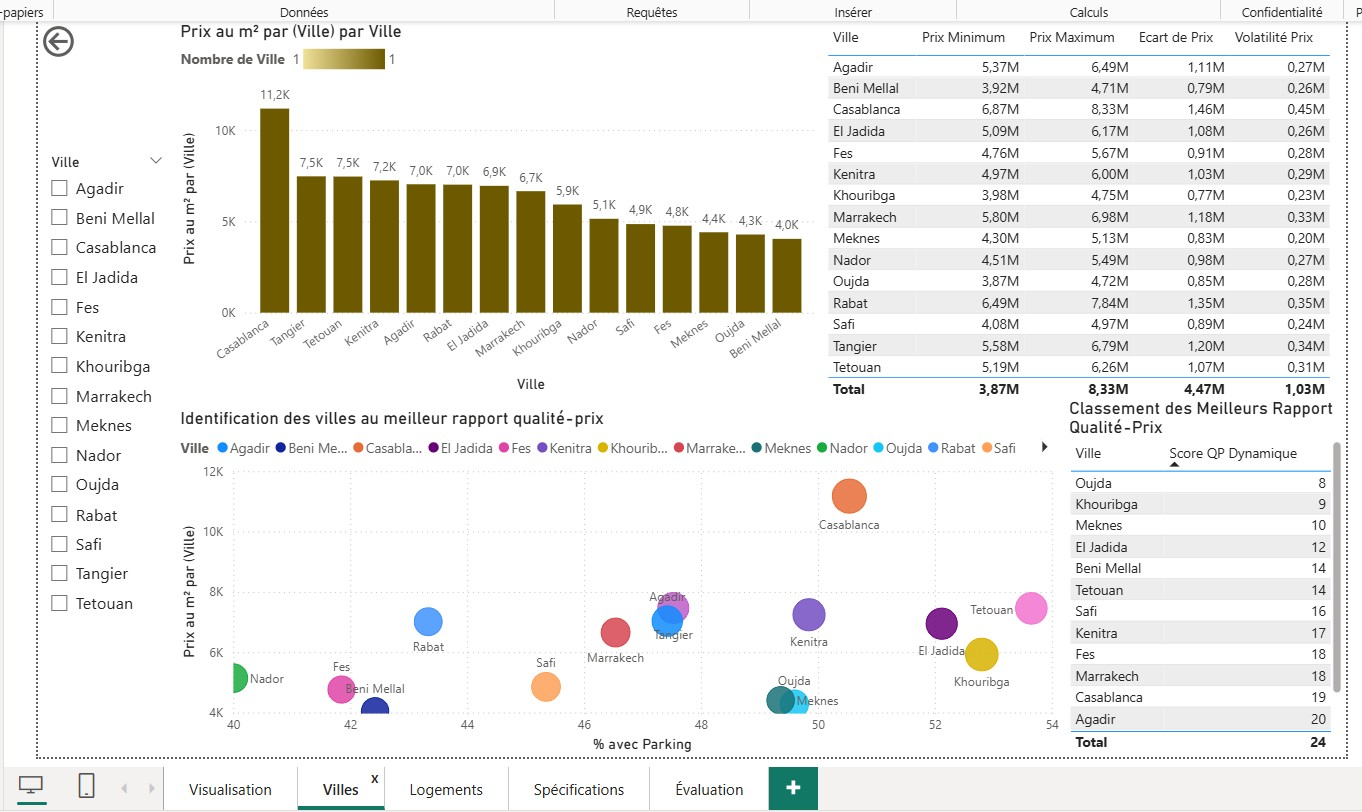

Layout of this report page (visuals, bound fields, positions):
{"tool":"powerbi","page":{"name":"Villes","canvas":[1280,720],"ordinal":1},"visuals":[{"type":"actionButton","box":[0,0,100,40],"z":0},{"type":"slicer","fields":{"Values":["Dim_Ville.Ville"]},"box":[0,124.7,134.5,469.6],"z":1000},{"type":"clusteredColumnChart","fields":{"Category":["Dim_Ville.Ville"],"Y":["Dim_Ville.Prix au m² par (Ville)"]},"box":[134.5,0,632.2,368.1],"z":2000},{"type":"tableEx","fields":{"Values":["Dim_Ville.Ville","Fact_Housing.Prix Minimum","Fact_Housing.Prix Maximum","Measures (2).Ecart de Prix","Measures (2).Volatilité Prix"]},"box":[766.7,0,513.6,377.9],"z":3000},{"type":"scatterChart","title":"Identification des villes au meilleur rapport qualité-prix","fields":{"X":["Measures (2).% avec Parking"],"Y":["Dim_Ville.Prix au m² par (Ville)"],"Series":["Dim_Ville.Ville"],"Size":["Measures (2).Nb Transactions"]},"box":[134.5,377.9,869.4,342.4],"z":4000},{"type":"tableEx","title":"Classement des Meilleurs Rapport Qualité-Prix","fields":{"Values":["Dim_Ville.Ville","Measures (2).Score QP Dynamique"]},"box":[1003.9,368.1,276.4,352.2],"z":5000}]}

Visuals, with their boxes on the page's 1280x720 design canvas (x1, y1, x2, y2). These are canvas units, not pixel positions in the 1362x812 screenshot, which may show the page scaled, cropped or inside an application window:
actionButton: {"x1": 0, "y1": 0, "x2": 100, "y2": 40}
slicer - Dim_Ville.Ville: {"x1": 0, "y1": 125, "x2": 134, "y2": 594}
clusteredColumnChart - Dim_Ville.Ville x Dim_Ville.Prix au m² par (Ville): {"x1": 134, "y1": 0, "x2": 767, "y2": 368}
tableEx - Dim_Ville.Ville x Fact_Housing.Prix Minimum: {"x1": 767, "y1": 0, "x2": 1280, "y2": 378}
"Identification des villes au meilleur rapport qualité-prix" scatterChart: {"x1": 134, "y1": 378, "x2": 1004, "y2": 720}
"Classement des Meilleurs Rapport Qualité-Prix" tableEx: {"x1": 1004, "y1": 368, "x2": 1280, "y2": 720}
